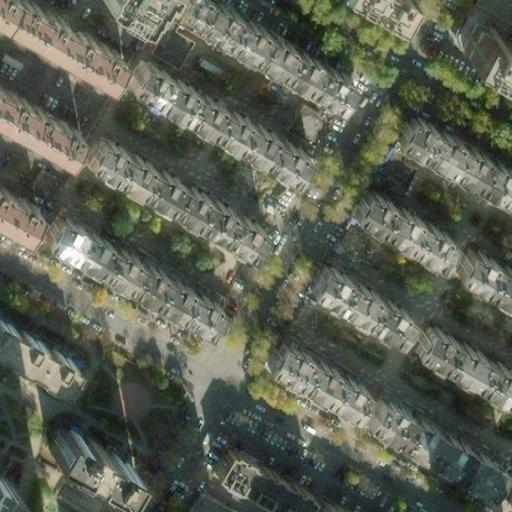building: (37, 210, 221, 333), (82, 132, 260, 251), (128, 55, 305, 172), (364, 395, 500, 489), (391, 109, 509, 193), (0, 0, 119, 82), (407, 319, 512, 404), (302, 258, 407, 335), (260, 340, 360, 414), (346, 183, 446, 255), (206, 441, 305, 512), (0, 85, 80, 157), (48, 419, 133, 483), (0, 321, 71, 386), (451, 240, 512, 303), (181, 481, 233, 512), (0, 471, 27, 511)
